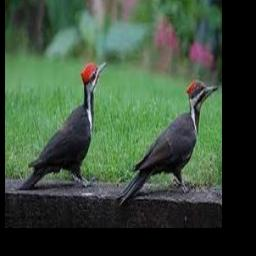Woodpecker: (117, 78, 219, 205), (19, 61, 108, 189)
